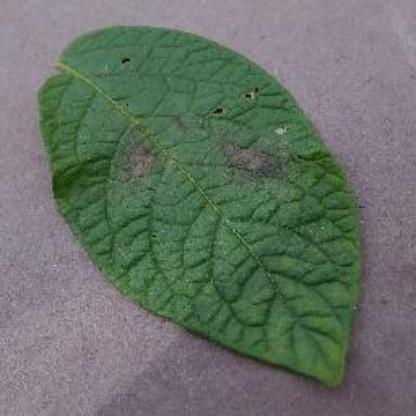Late-Blight: (37, 26, 367, 388)
